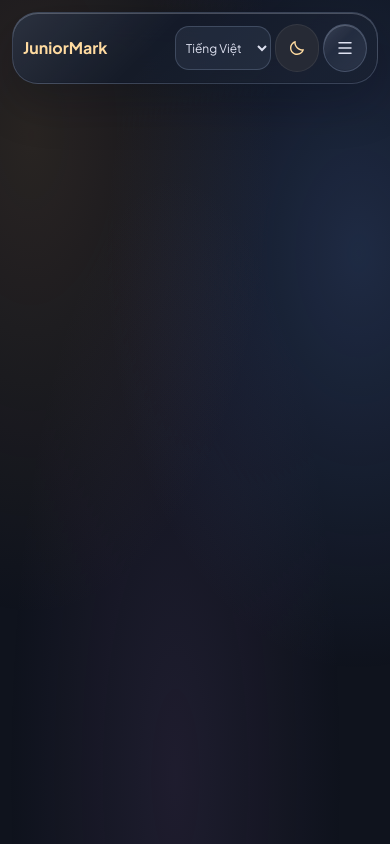
Scenario: keeps account, Jummo and sign-in reachable in the mobile menu
What coordinates should you click on to do the following:
click the button named "Mở menu"
I would click on:
 (345, 48)
Its box is x1=323 y1=24 x2=367 y2=72.
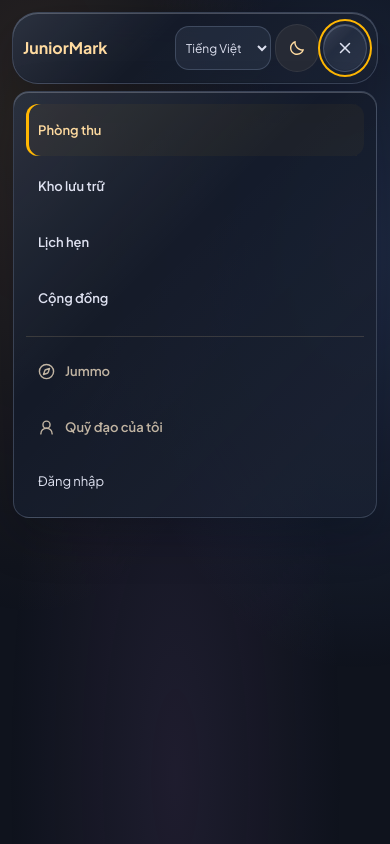
What coordinates should you click on to do the following:
click the button "Đăng nhập"
I would click on:
 (71, 481)
Its box is x1=26 y1=457 x2=364 y2=505.
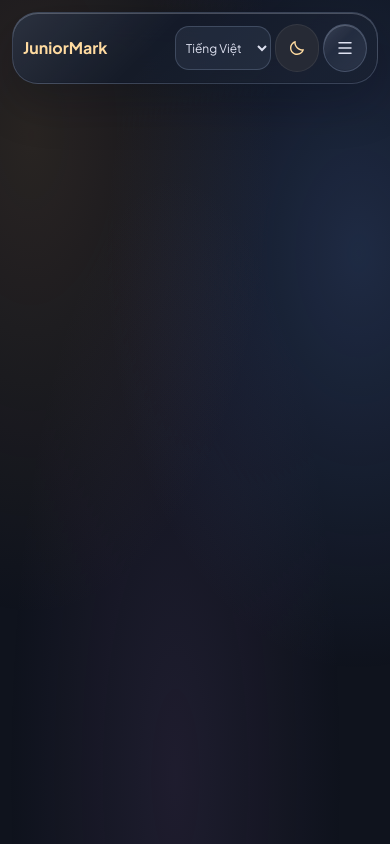
Now the navigation bar is gone
